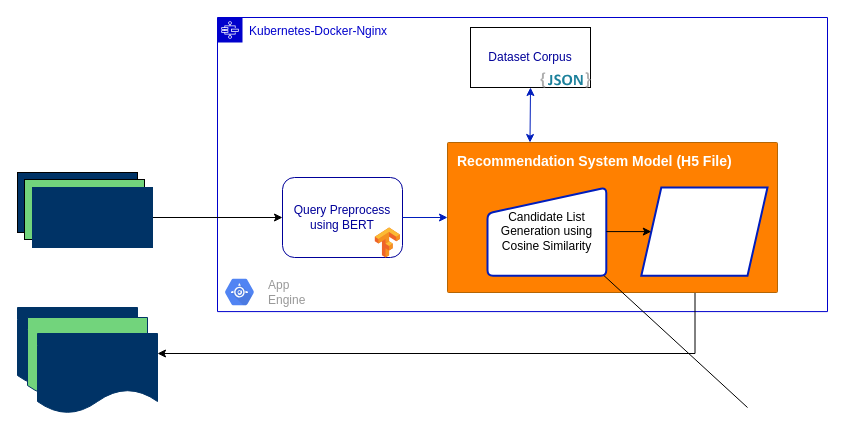
The diagram is 845 pixels wide and 433 high, and some of its shapes have lost their labels. The shapes that lost their labels are listed below. From the top down, each one's centre as x and y in pixels, then its label:
At pixel 92 217: "User Queries".
At pixel 704 231: "Ranking the candidates using MMoE".
At pixel 97 373: "Ranked Video for User to watch next".
